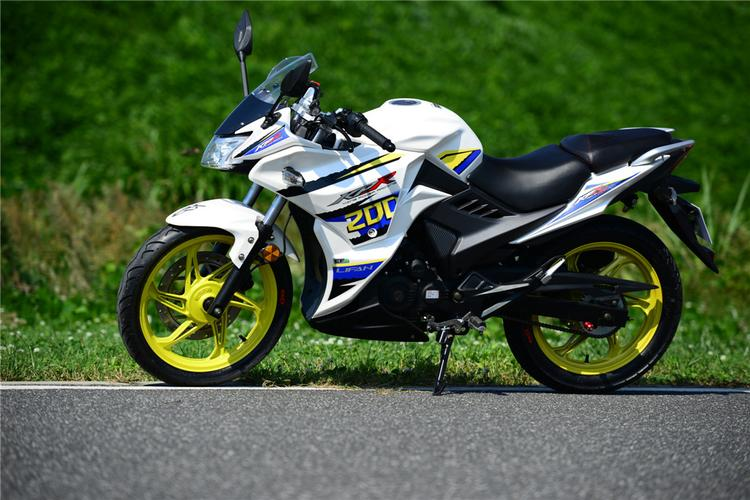摩托车: (99, 94, 719, 403)
